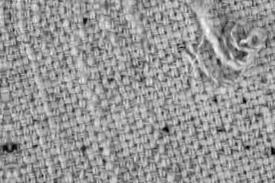snag: (184, 3, 268, 88)
